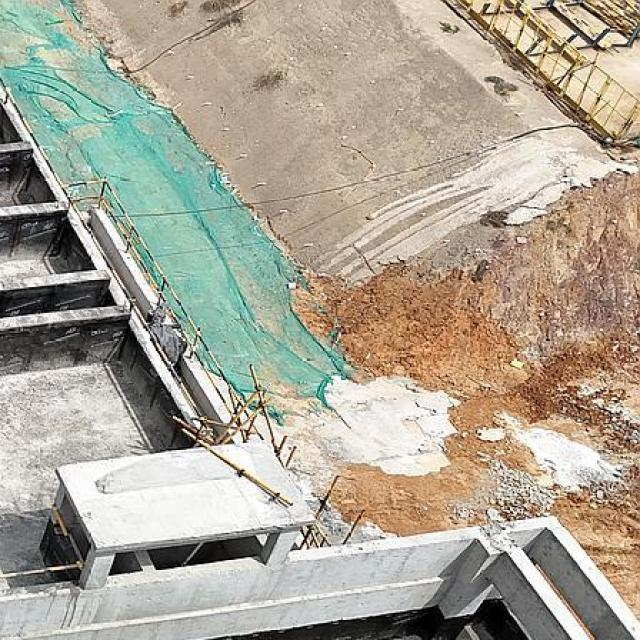edge_guardrail: (0, 75, 224, 437), (64, 178, 264, 442), (0, 502, 86, 578)
